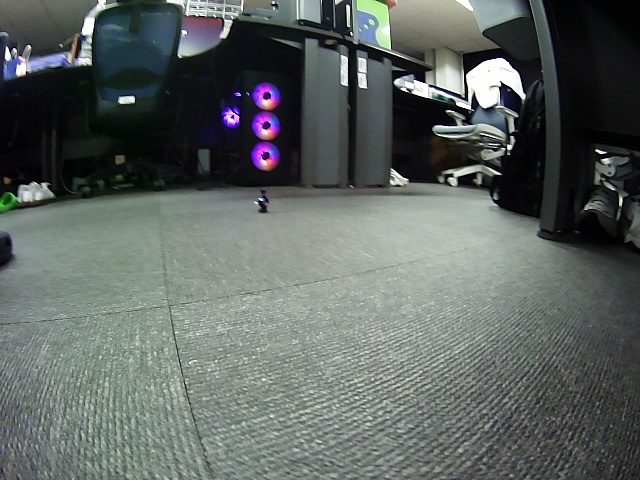person: (254, 190, 271, 214)
